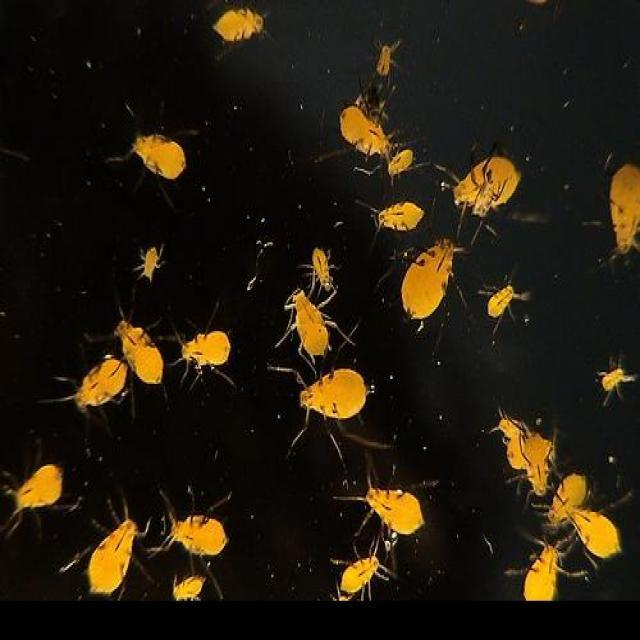aphid: (9, 459, 237, 628), (346, 27, 516, 234), (492, 406, 628, 608), (72, 307, 240, 447), (284, 242, 375, 450), (326, 457, 434, 613), (404, 222, 464, 343), (119, 118, 208, 194), (601, 143, 640, 271), (489, 263, 530, 328), (214, 8, 288, 44), (598, 356, 635, 404), (138, 240, 170, 290)
